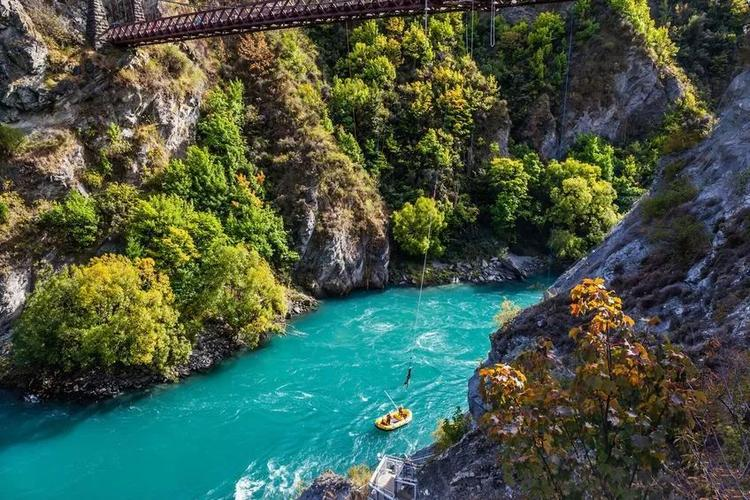sea_river: (37, 296, 483, 484)
